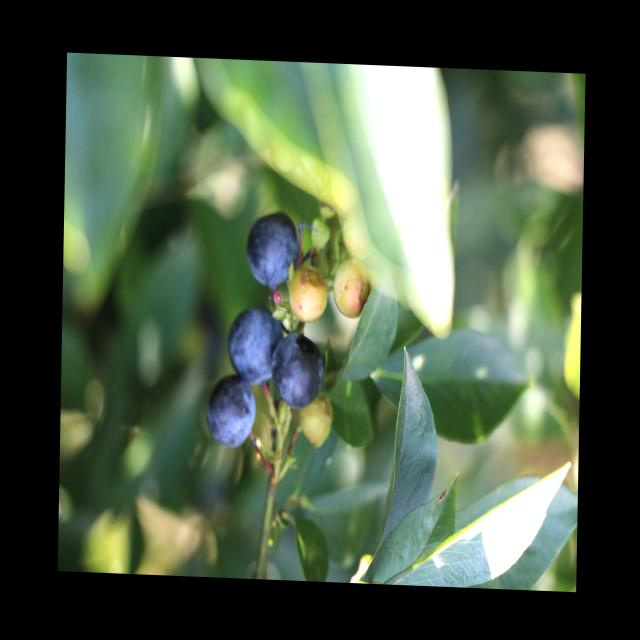blueberry: (242, 208, 303, 291), (224, 305, 282, 388), (269, 332, 326, 410), (202, 374, 260, 450)
blueberry-unripe: (287, 268, 329, 326), (333, 261, 372, 323), (298, 402, 331, 451)
